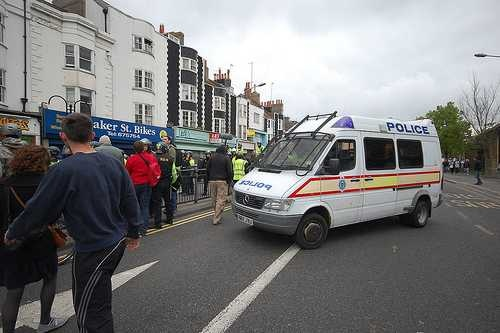Police Car: (220, 98, 459, 233)
